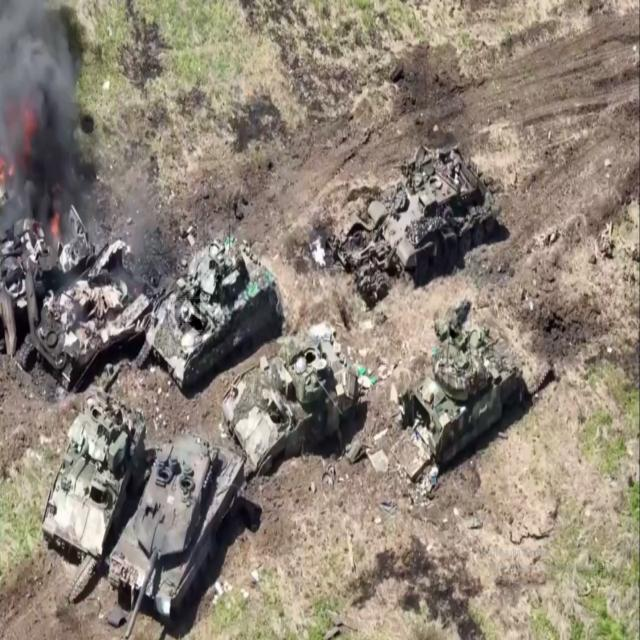AIFV: (147, 234, 281, 392), (222, 328, 363, 478), (399, 328, 539, 479), (40, 391, 147, 563)
Destroyed: (30, 239, 151, 392), (1, 199, 95, 349)
MBT: (339, 144, 503, 296)
